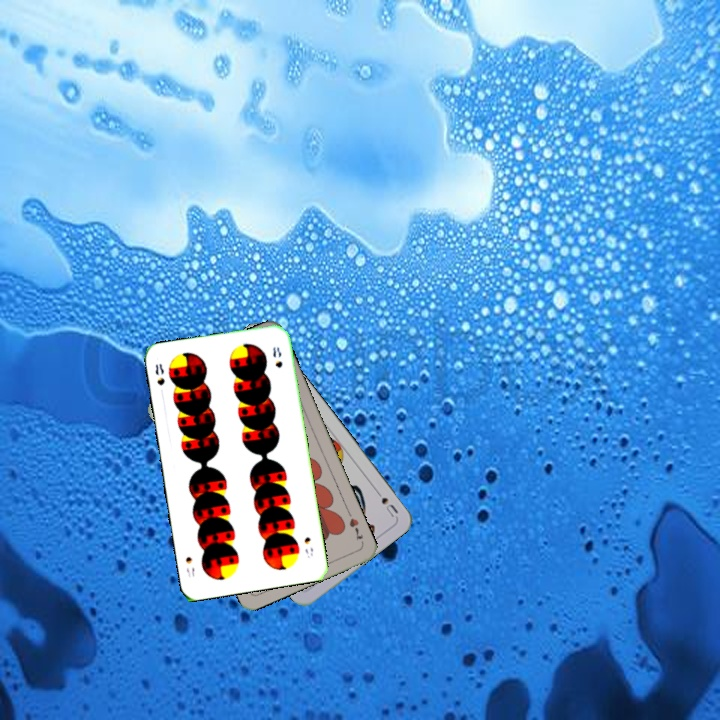H7: (343, 507, 366, 543)
S8: (151, 359, 167, 388), (300, 532, 316, 560)
SU: (370, 484, 401, 520)
